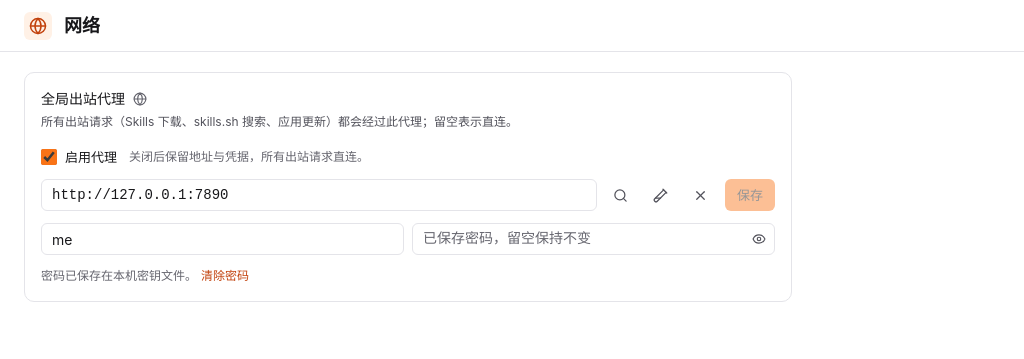
Scenario: scans local proxies and fills the selected address
Expected: the field named "代理地址" is shown, [41,179,597,211]
Click the button named "扫描本地代理".
click(621, 195)  # box [605,179,637,211]
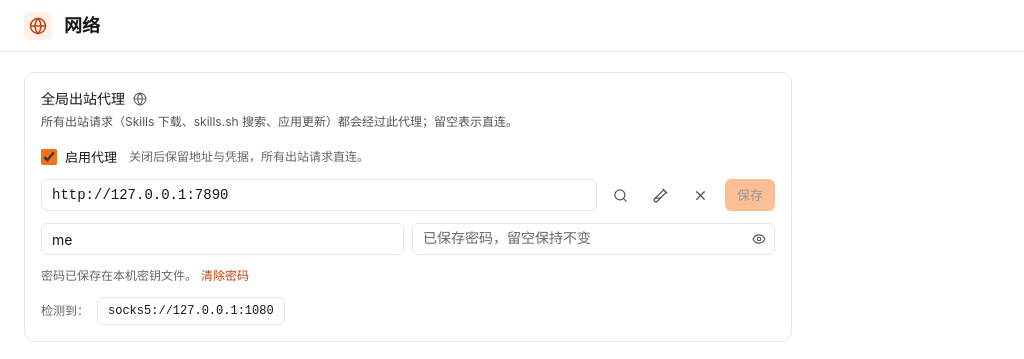
Click the button "socks5://127.0.0.1:1080".
click(191, 311)  # box [97,297,285,325]
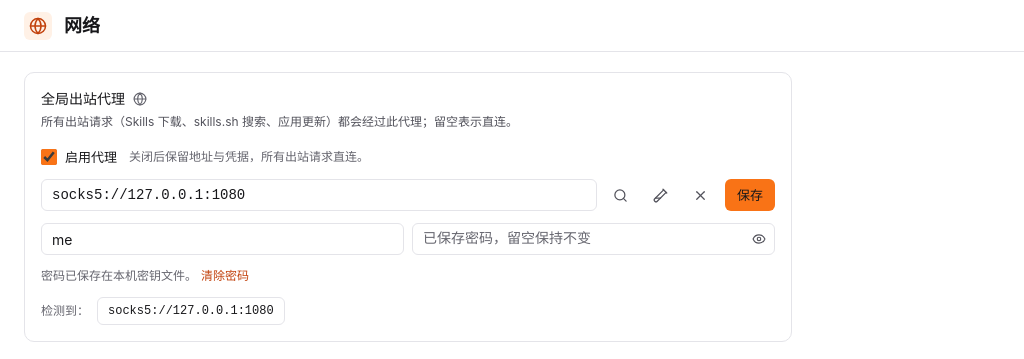
Now the field named "代理地址" holds "socks5://127.0.0.1:1080", box [41,179,597,211]
